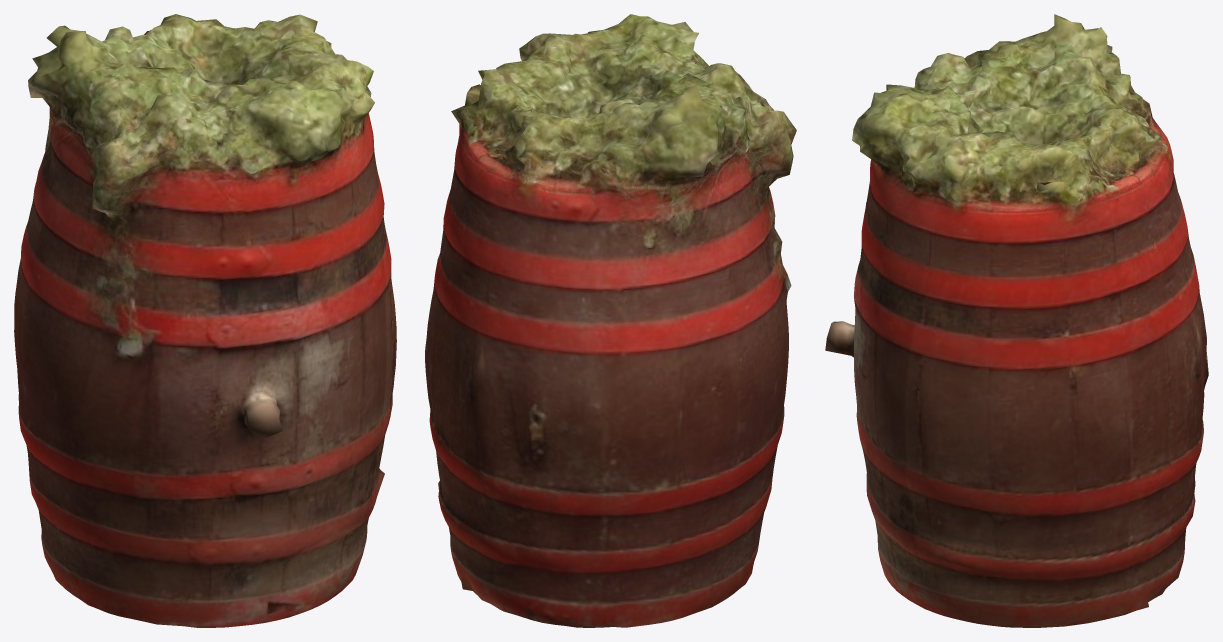
Rendered from barrel_planter_6d6628e8.glb.
The picture shows the model from 3 angles, left to right: view 1: azimuth 30°, elevation 25°; view 2: azimuth 150°, elevation 25°; view 3: azimuth 270°, elevation 25°; orthographic projection. The views are drawn at different scales.
Visible parts, largest first — view 1: barrel_planter_6d6628e8; view 2: barrel_planter_6d6628e8; view 3: barrel_planter_6d6628e8.
Part boxes in pixels (left/top/right/bottom): barrel_planter_6d6628e8: left=14, top=14, right=396, bottom=627; barrel_planter_6d6628e8: left=425, top=14, right=796, bottom=627; barrel_planter_6d6628e8: left=825, top=14, right=1208, bottom=627.
Size of the model in its own units: 0.4537 by 0.7096 by 0.4883.
1 material, 1 textured.
